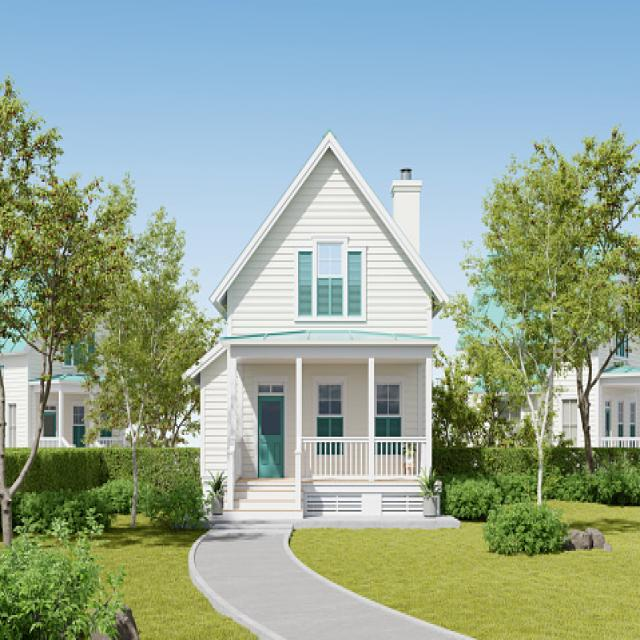Normal_building: (177, 125, 458, 531)
